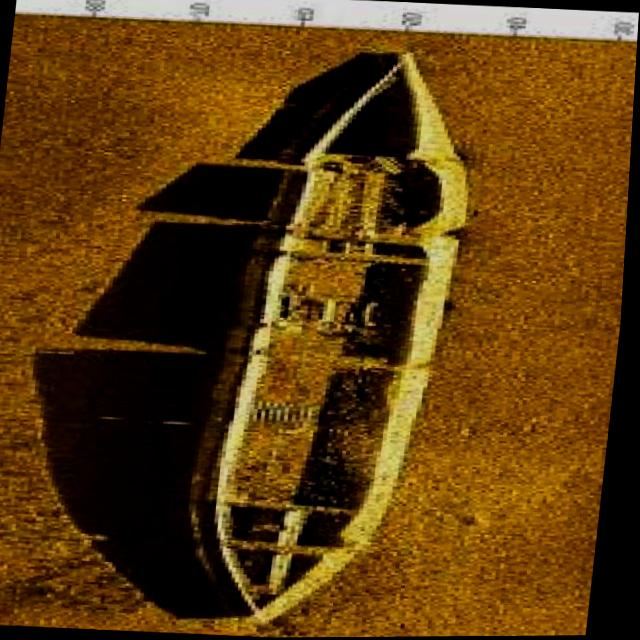shipwreck: (199, 37, 493, 630)
